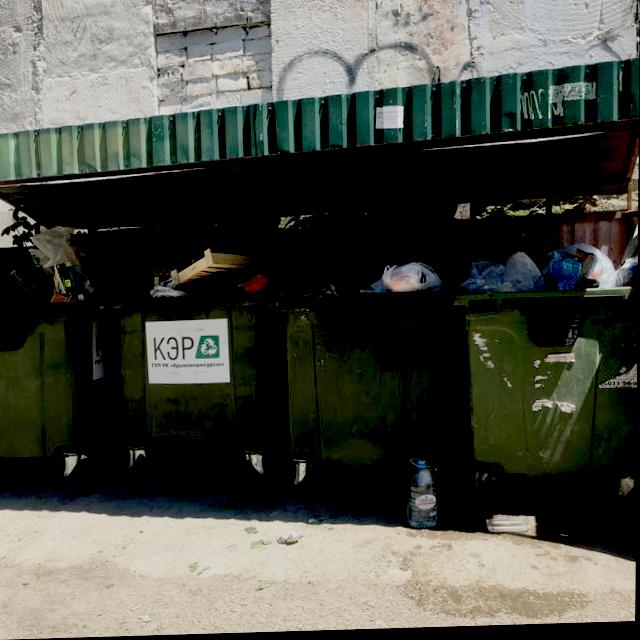Trash_Can_Full: (451, 240, 639, 489), (95, 241, 282, 455), (273, 260, 457, 474), (0, 227, 121, 463)
